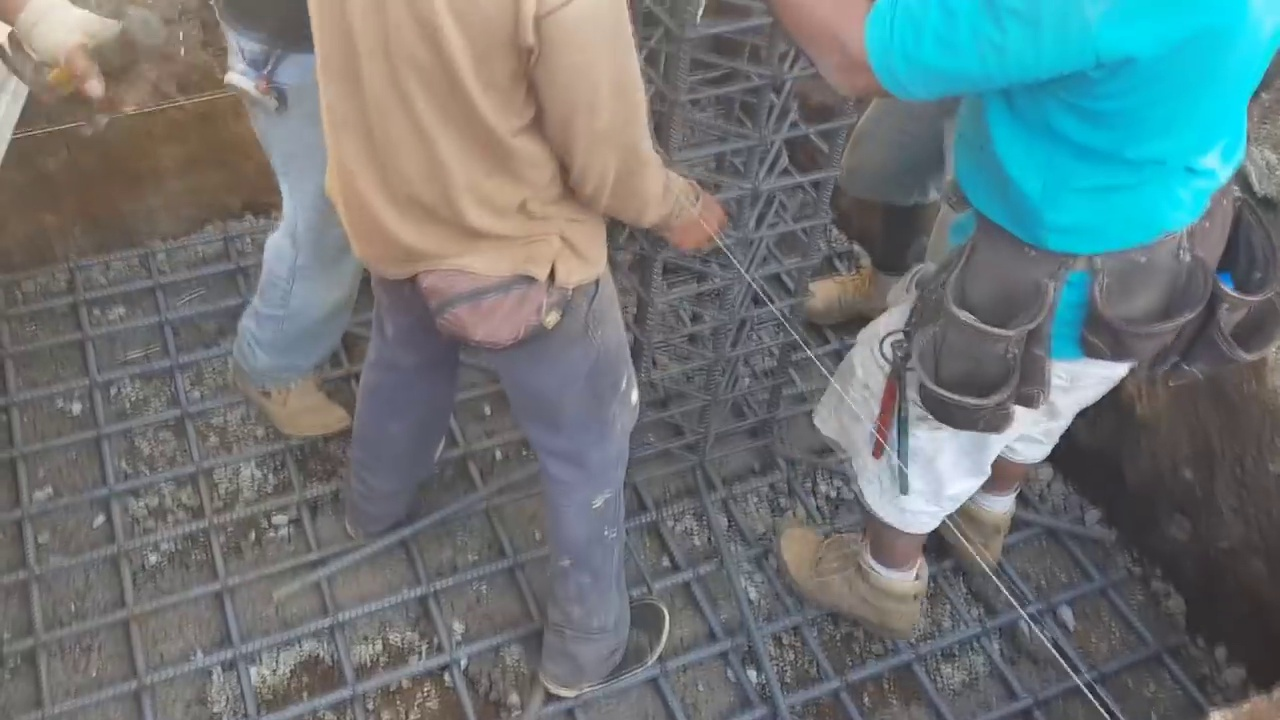person: (774, 0, 1273, 629), (301, 0, 724, 694), (213, 0, 389, 444)
